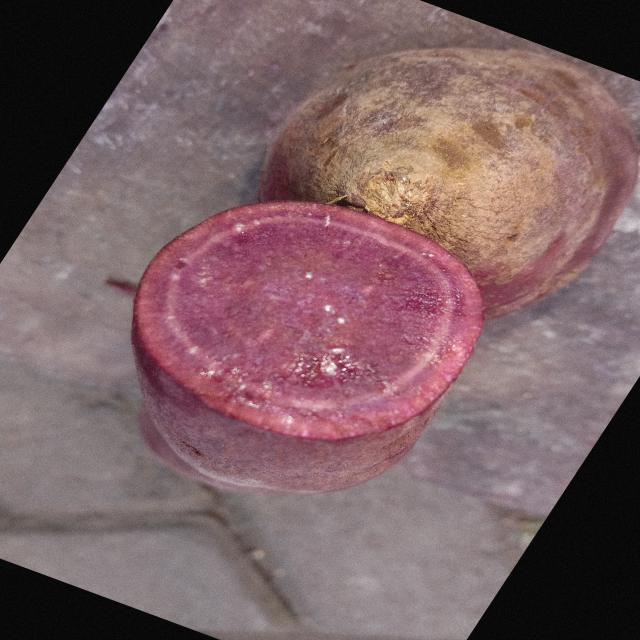Healthy Sweet Potato: (133, 201, 483, 440)
